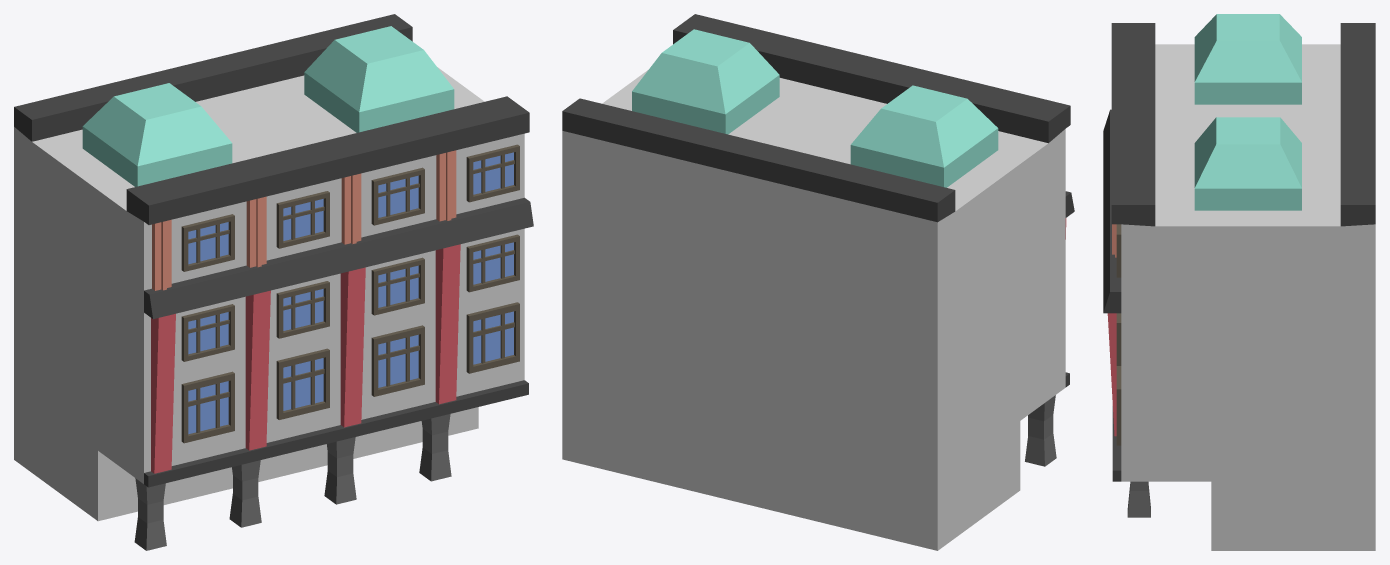
The model's file is PalazzoModCentraleSx.fbx.
3 renders of one model, left to right at view 1: azimuth 30°, elevation 25°; view 2: azimuth 150°, elevation 25°; view 3: azimuth 270°, elevation 25°, orthographic. The views are drawn at different scales.
Parts seen in each view (by area): view 1: PalazzoModCentraleSx; view 2: PalazzoModCentraleSx; view 3: PalazzoModCentraleSx.
Boxes of the visible parts, x1,y1,x2,y2 form: PalazzoModCentraleSx: (14, 14, 533, 550); PalazzoModCentraleSx: (562, 14, 1074, 550); PalazzoModCentraleSx: (1103, 14, 1375, 550).
Size of the model in its own units: 1695 by 1656 by 1072.
